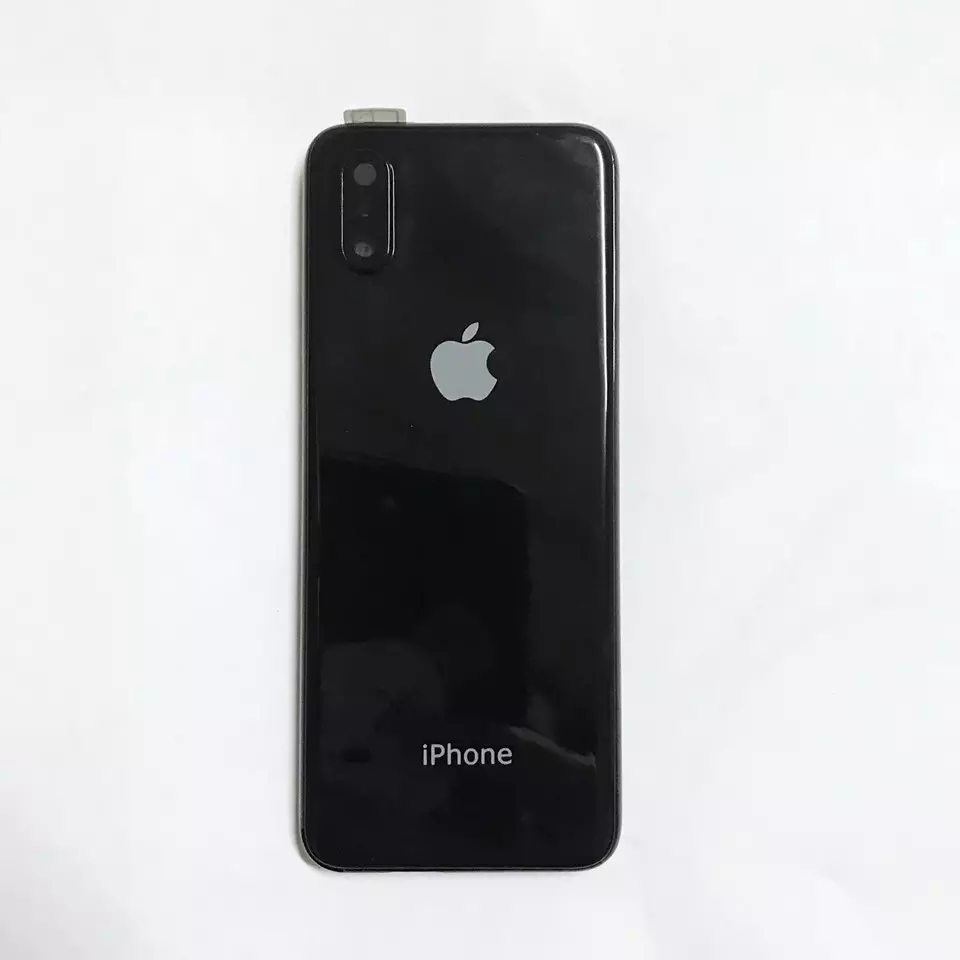Phone: (291, 107, 626, 879)
